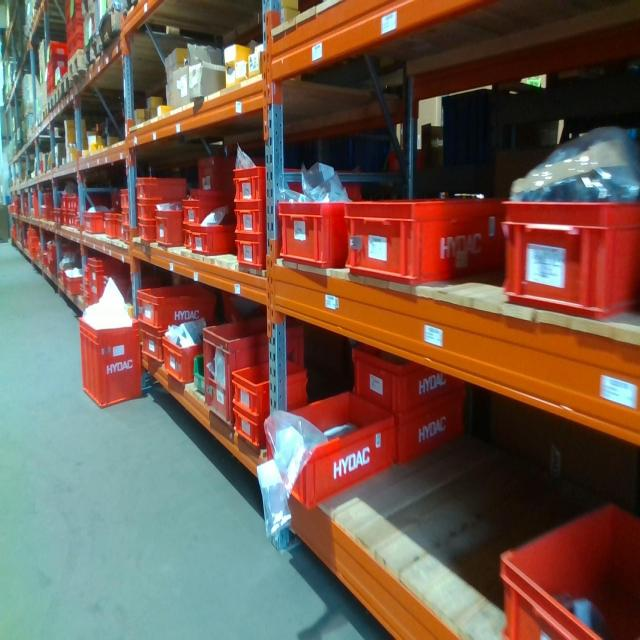pallet: (96, 5, 134, 57), (67, 45, 86, 97), (84, 32, 102, 76), (58, 73, 70, 107), (48, 86, 58, 121), (38, 101, 46, 128)
small_load_carrier: (499, 471, 639, 637), (496, 182, 637, 324), (266, 381, 397, 512), (344, 198, 503, 291), (350, 388, 464, 474), (348, 337, 471, 413), (201, 320, 268, 426), (79, 315, 142, 407), (231, 355, 310, 420), (278, 201, 345, 273), (133, 286, 216, 332), (84, 256, 132, 320), (157, 327, 202, 384), (185, 215, 235, 262), (231, 403, 283, 448), (232, 157, 284, 201), (199, 150, 245, 199), (231, 202, 283, 235), (152, 208, 194, 243), (231, 235, 270, 272), (181, 192, 219, 218), (130, 173, 162, 202), (64, 269, 87, 300), (144, 330, 163, 366), (83, 203, 103, 237), (135, 215, 157, 241), (102, 209, 121, 238), (135, 198, 165, 215), (44, 55, 67, 72), (117, 183, 131, 206), (48, 42, 67, 55), (31, 190, 39, 220), (121, 227, 135, 244), (121, 206, 131, 227), (58, 62, 68, 82), (82, 262, 90, 284), (72, 195, 80, 211), (68, 197, 75, 215), (84, 284, 90, 302), (72, 214, 78, 229), (67, 212, 73, 227), (61, 211, 67, 225), (63, 193, 67, 210)
